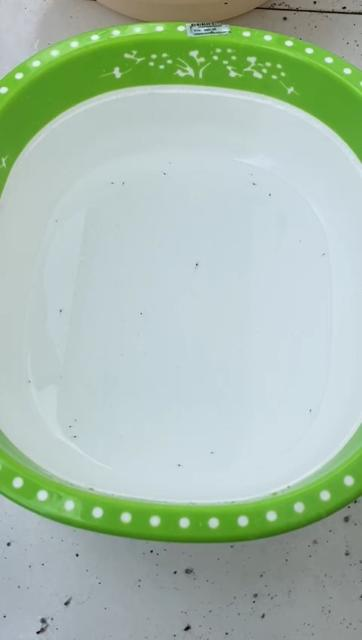benur: (195, 260, 200, 269), (120, 181, 126, 188), (252, 181, 258, 188), (53, 218, 59, 224), (268, 192, 273, 199), (163, 171, 168, 177), (210, 450, 216, 455), (72, 434, 78, 439), (176, 463, 183, 467), (110, 180, 114, 186), (249, 173, 255, 177), (309, 409, 312, 416), (321, 252, 325, 257), (67, 424, 72, 428), (73, 418, 78, 422), (28, 379, 32, 383), (60, 309, 63, 314), (169, 162, 173, 165), (140, 312, 143, 315)
